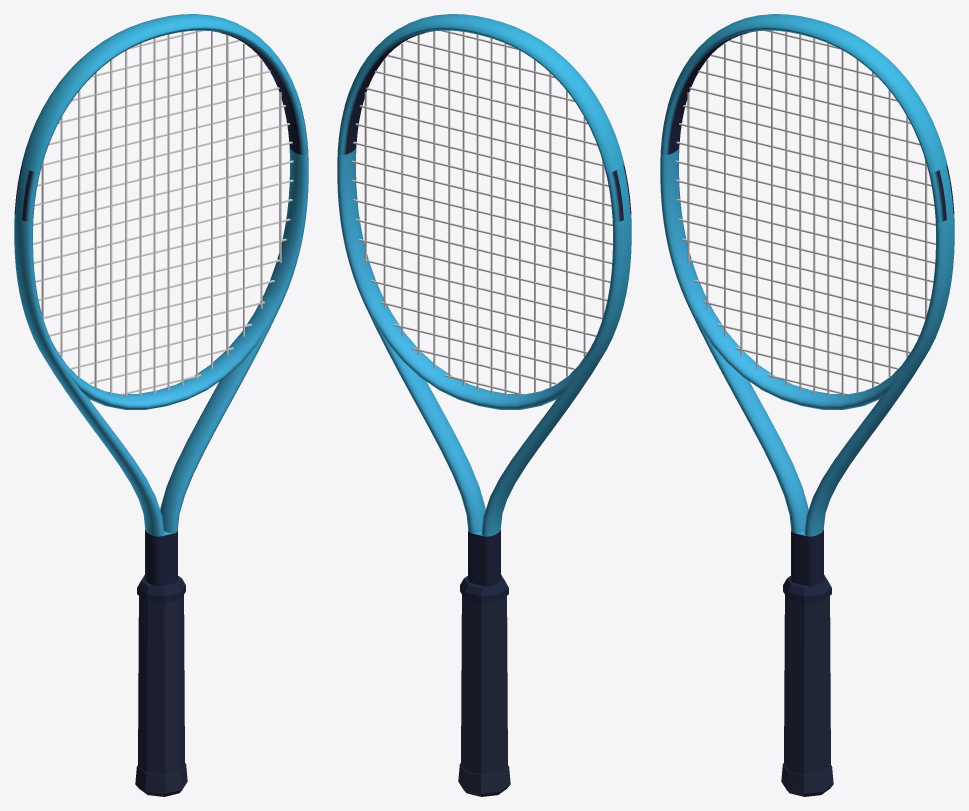
The model's file is head-boom-mp-ul-2026.glb.
3 renders of one model, left to right at view 1: azimuth 30°, elevation 25°; view 2: azimuth 150°, elevation 25°; view 3: azimuth 330°, elevation 25°, orthographic.
Visible parts, largest first — view 1: frame, strings_mains, strings_crosses, grip, bumper, grommets, butt_cap, collar; view 2: frame, strings_mains, strings_crosses, grip, bumper, grommets, butt_cap, collar; view 3: frame, strings_mains, strings_crosses, grip, bumper, grommets, butt_cap, collar.
Boxes of the visible parts, box(x1,y1,x2,y2) form: frame: box(14, 27, 308, 586); strings_mains: box(41, 30, 281, 396); strings_crosses: box(33, 30, 293, 395); grip: box(138, 595, 184, 774); bumper: box(21, 14, 301, 172); grommets: box(15, 165, 45, 354); butt_cap: box(135, 763, 187, 796); collar: box(137, 575, 185, 603); frame: box(337, 27, 631, 586); strings_mains: box(364, 30, 604, 395); strings_crosses: box(352, 30, 612, 395); grip: box(461, 595, 507, 774); bumper: box(344, 14, 624, 172); grommets: box(600, 165, 630, 354); butt_cap: box(458, 763, 510, 796); collar: box(460, 575, 508, 603); frame: box(660, 27, 954, 586); strings_mains: box(687, 30, 927, 396); strings_crosses: box(675, 30, 935, 395); grip: box(784, 595, 830, 774); bumper: box(667, 14, 947, 172); grommets: box(923, 165, 953, 354); butt_cap: box(781, 763, 833, 796); collar: box(783, 575, 831, 603).
Bounding box in the file's own units: 0.2696 × 0.6861 × 0.0396.
